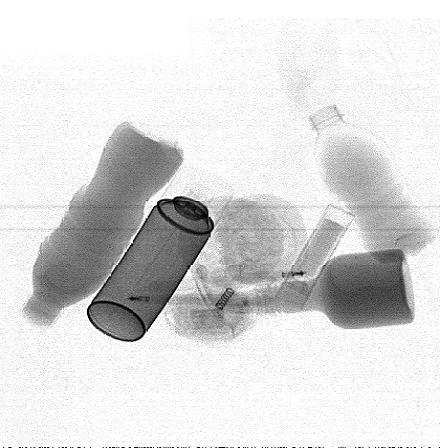Sprayer: (87, 167, 234, 341)
